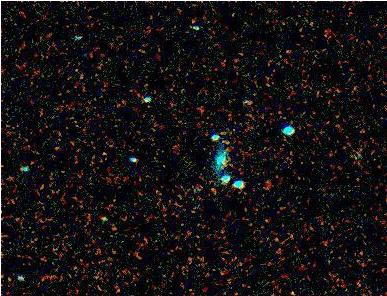star: (201, 149, 231, 179)
